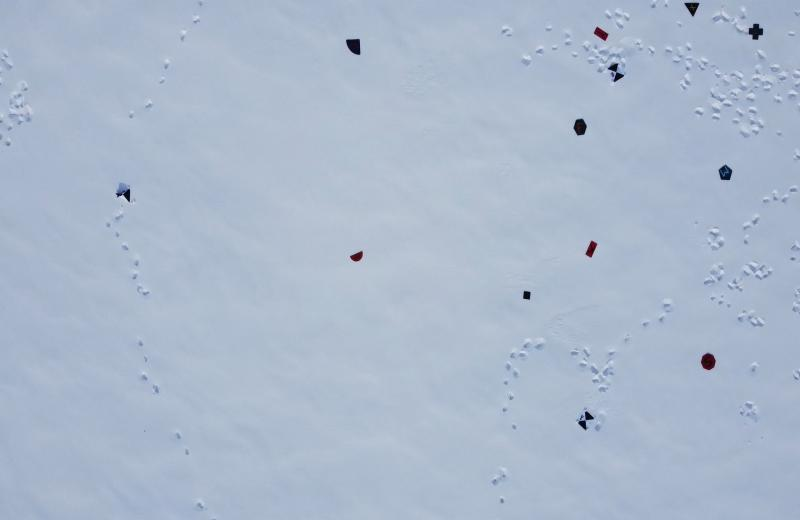Cross: (748, 22, 766, 42)
Hexagon: (571, 117, 588, 138)
Octagon: (700, 352, 716, 371)
Pentagon: (718, 163, 733, 181)
Quarter Circle: (346, 37, 362, 57)
Rectangle: (584, 240, 598, 260), (594, 26, 610, 42)
Semi Circle: (349, 251, 363, 263)
Square: (523, 290, 531, 300)
Triangle: (684, 2, 700, 18)
